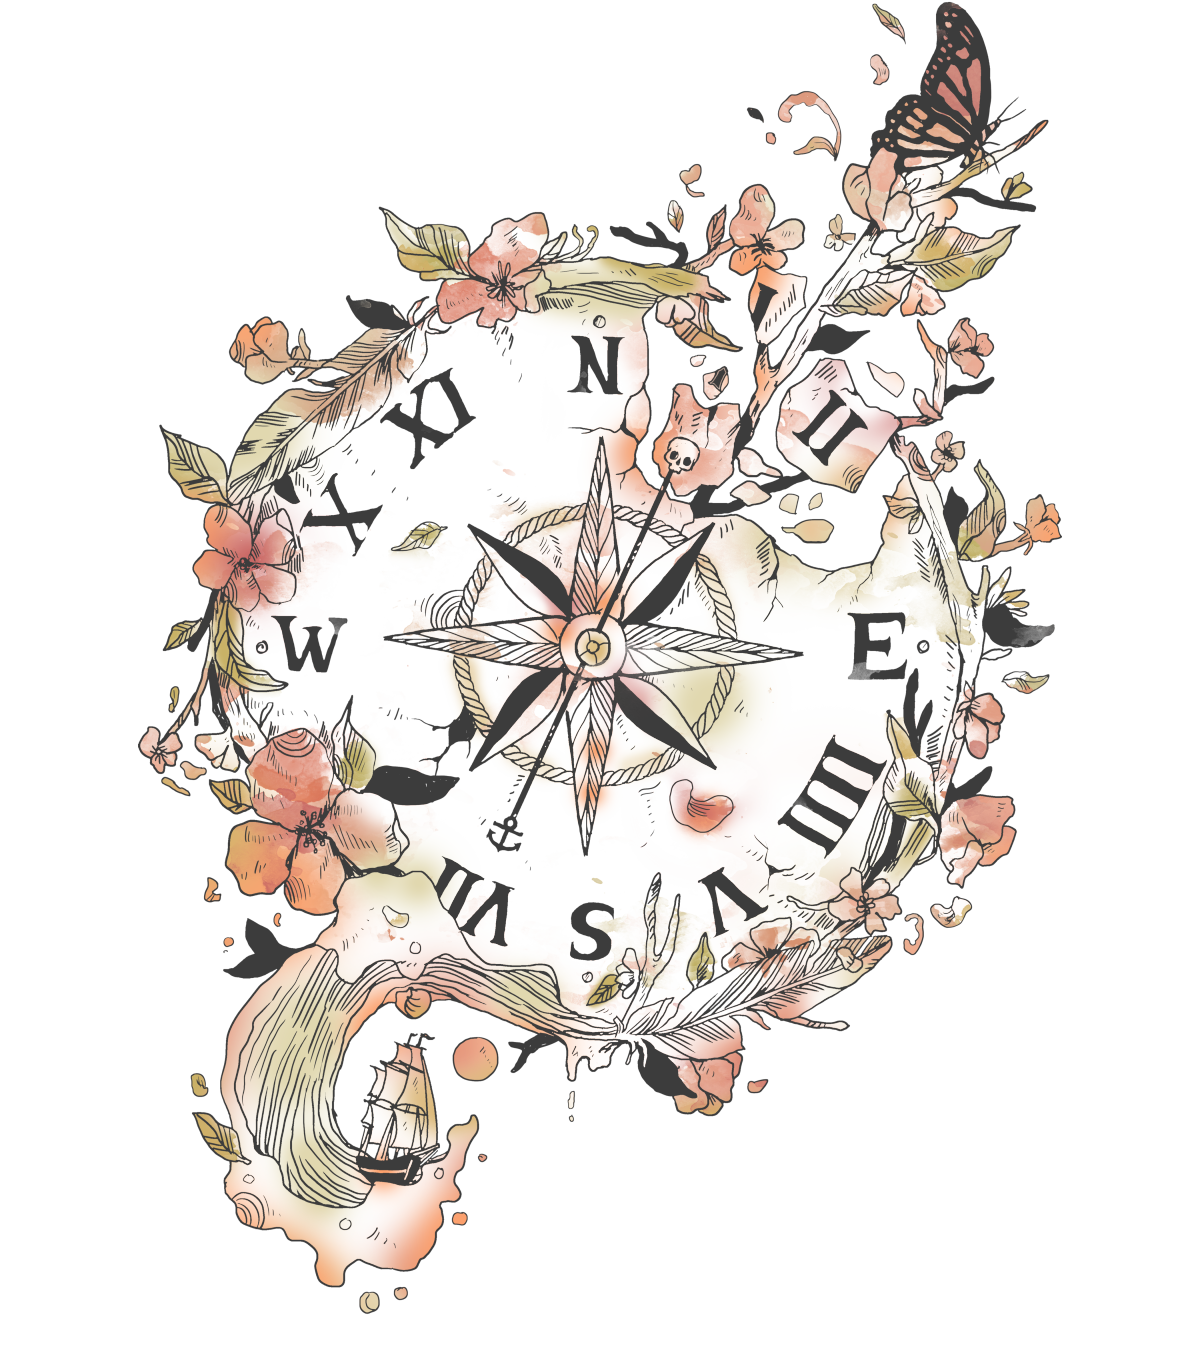design: (112, 1, 1078, 1336)
